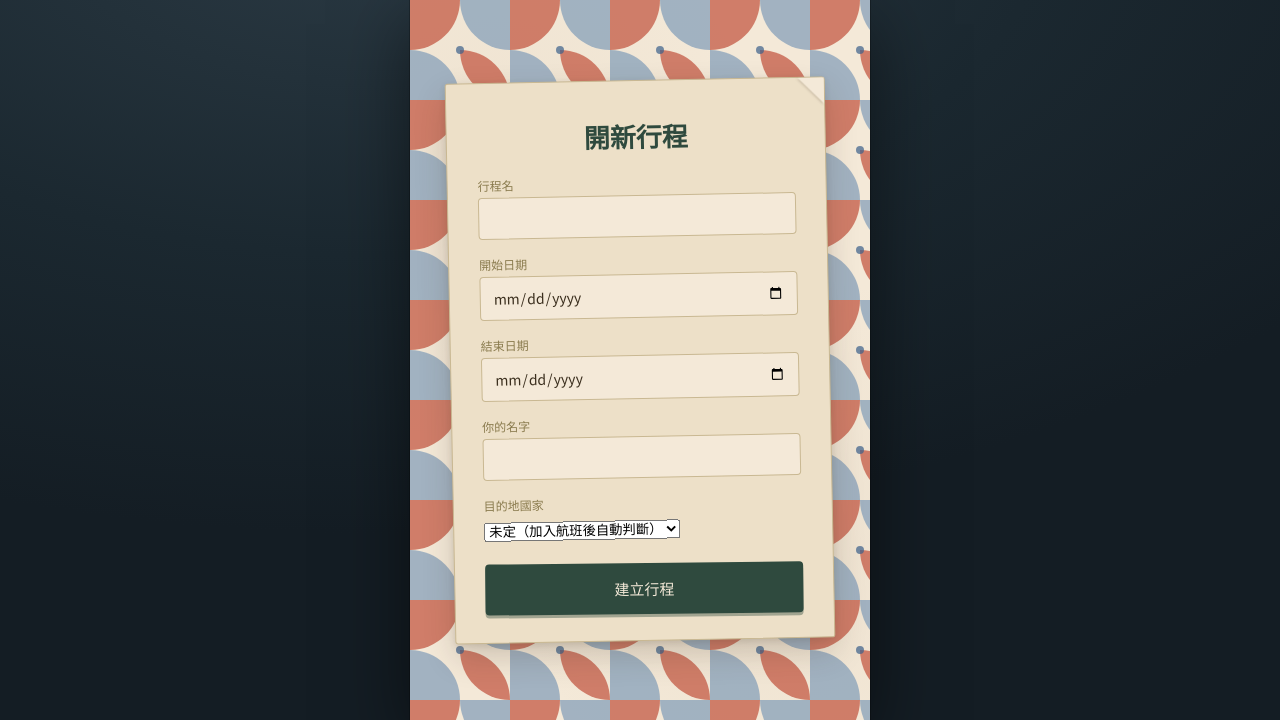
CreateTrip › shows an error message when creation fails
This screenshot has width=1280, height=720.
In the field labelled "行程名": {"x": 637, "y": 216} [478,192,797,240], type "東京五日"
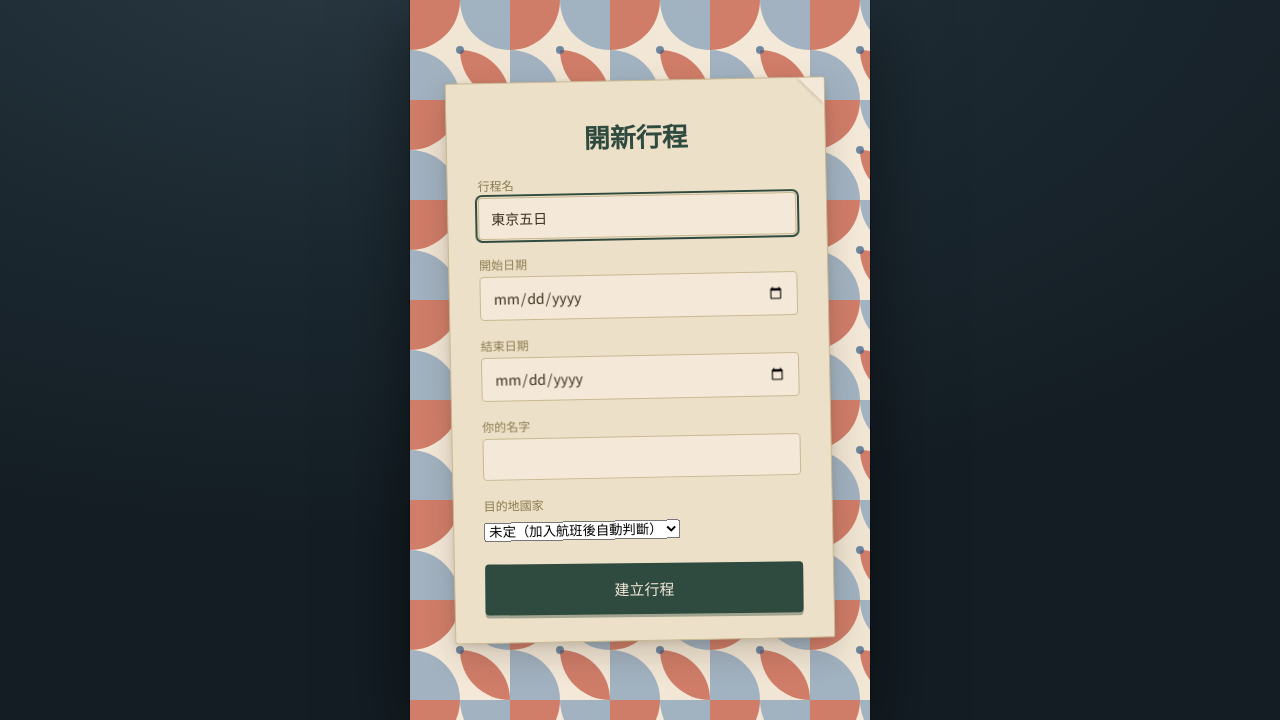
In the date field labelled "開始日期": {"x": 639, "y": 296} [479,270,798,321], type "2026-08-01"
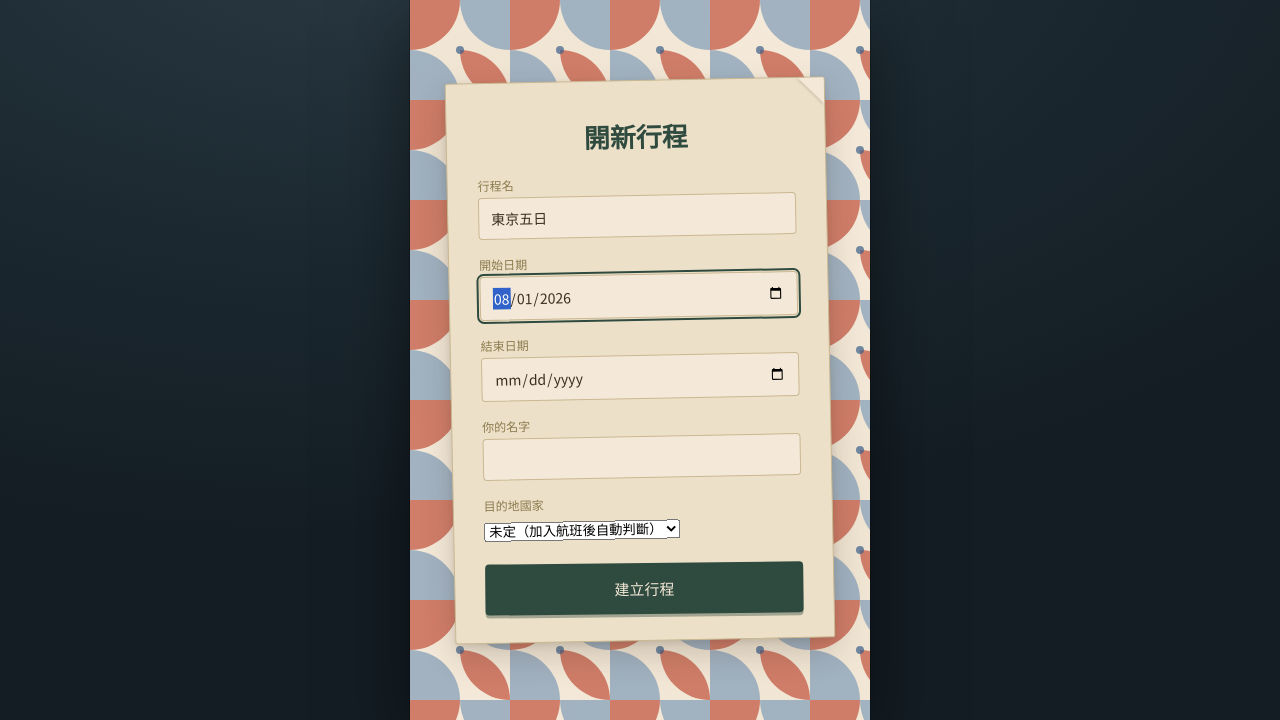
In the date field labelled "結束日期": {"x": 640, "y": 376} [481,351,800,402], type "2026-08-05"
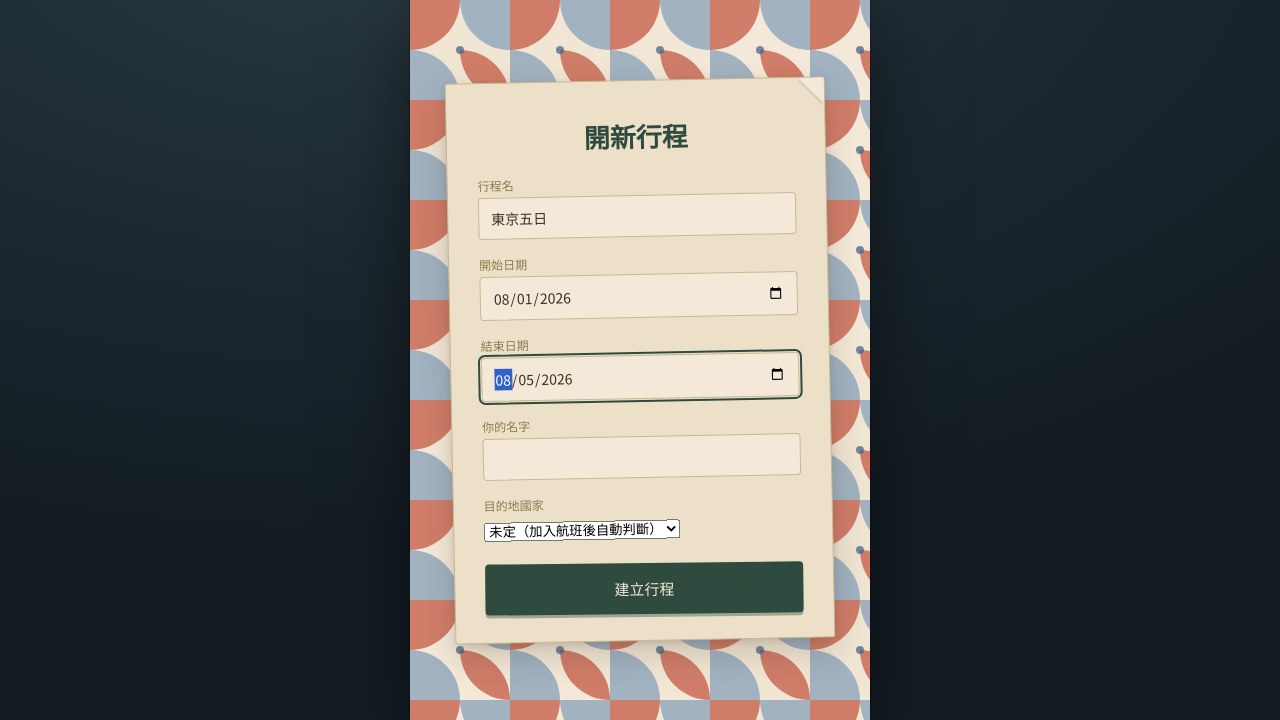
In the field labelled "你的名字": {"x": 642, "y": 456} [482,432,801,480], type "阿明"
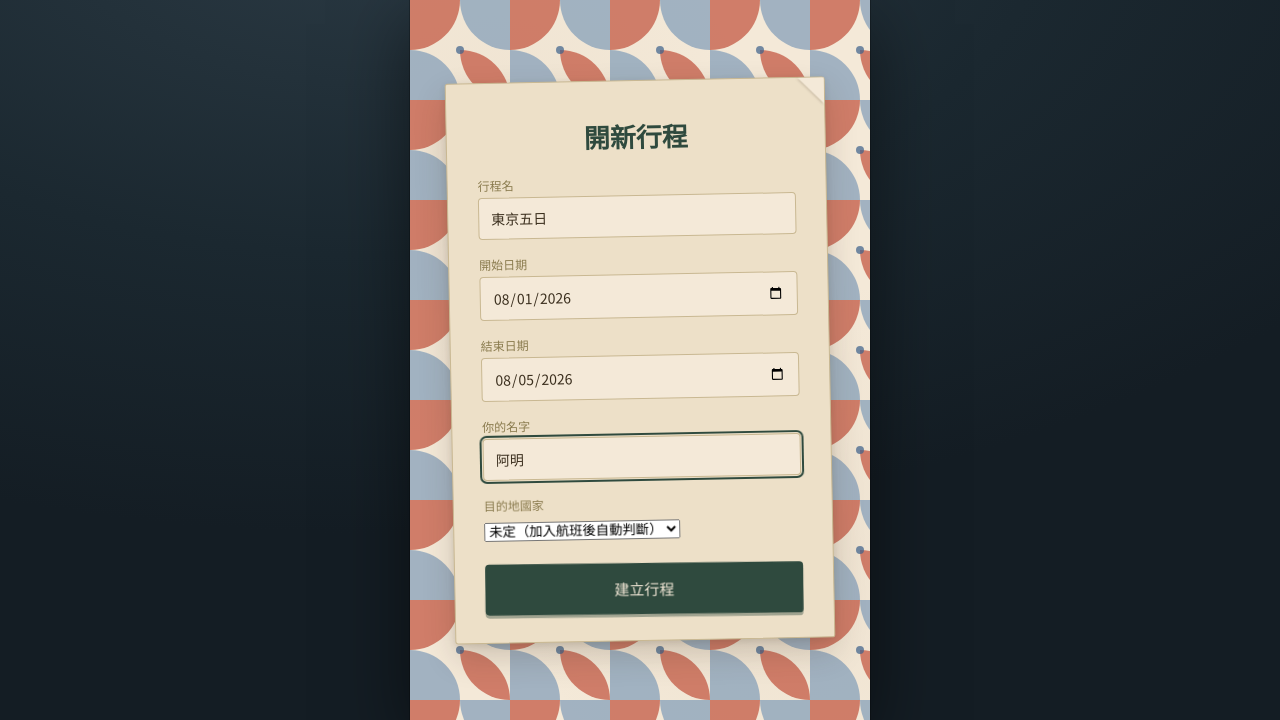
Click the button "建立行程": {"x": 644, "y": 588} [485,561,804,615]
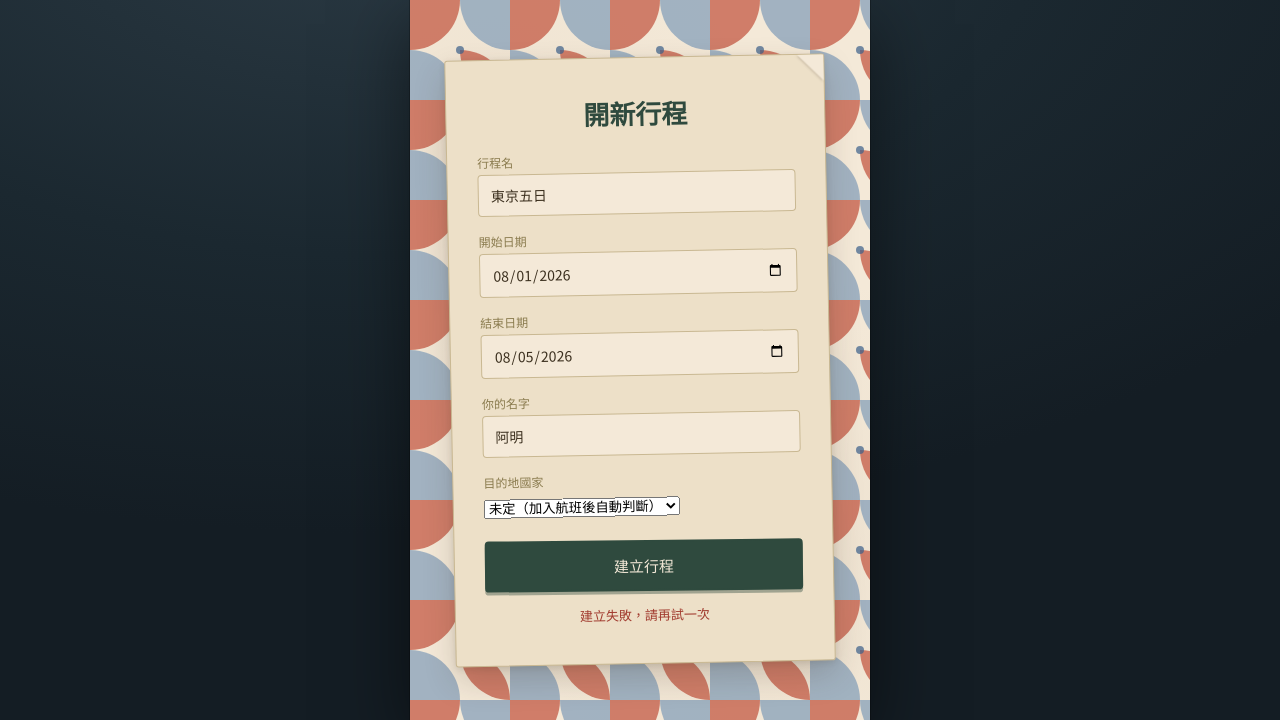
Result: the text "建立失敗，請再試一次" is shown at [580,603,710,625]
